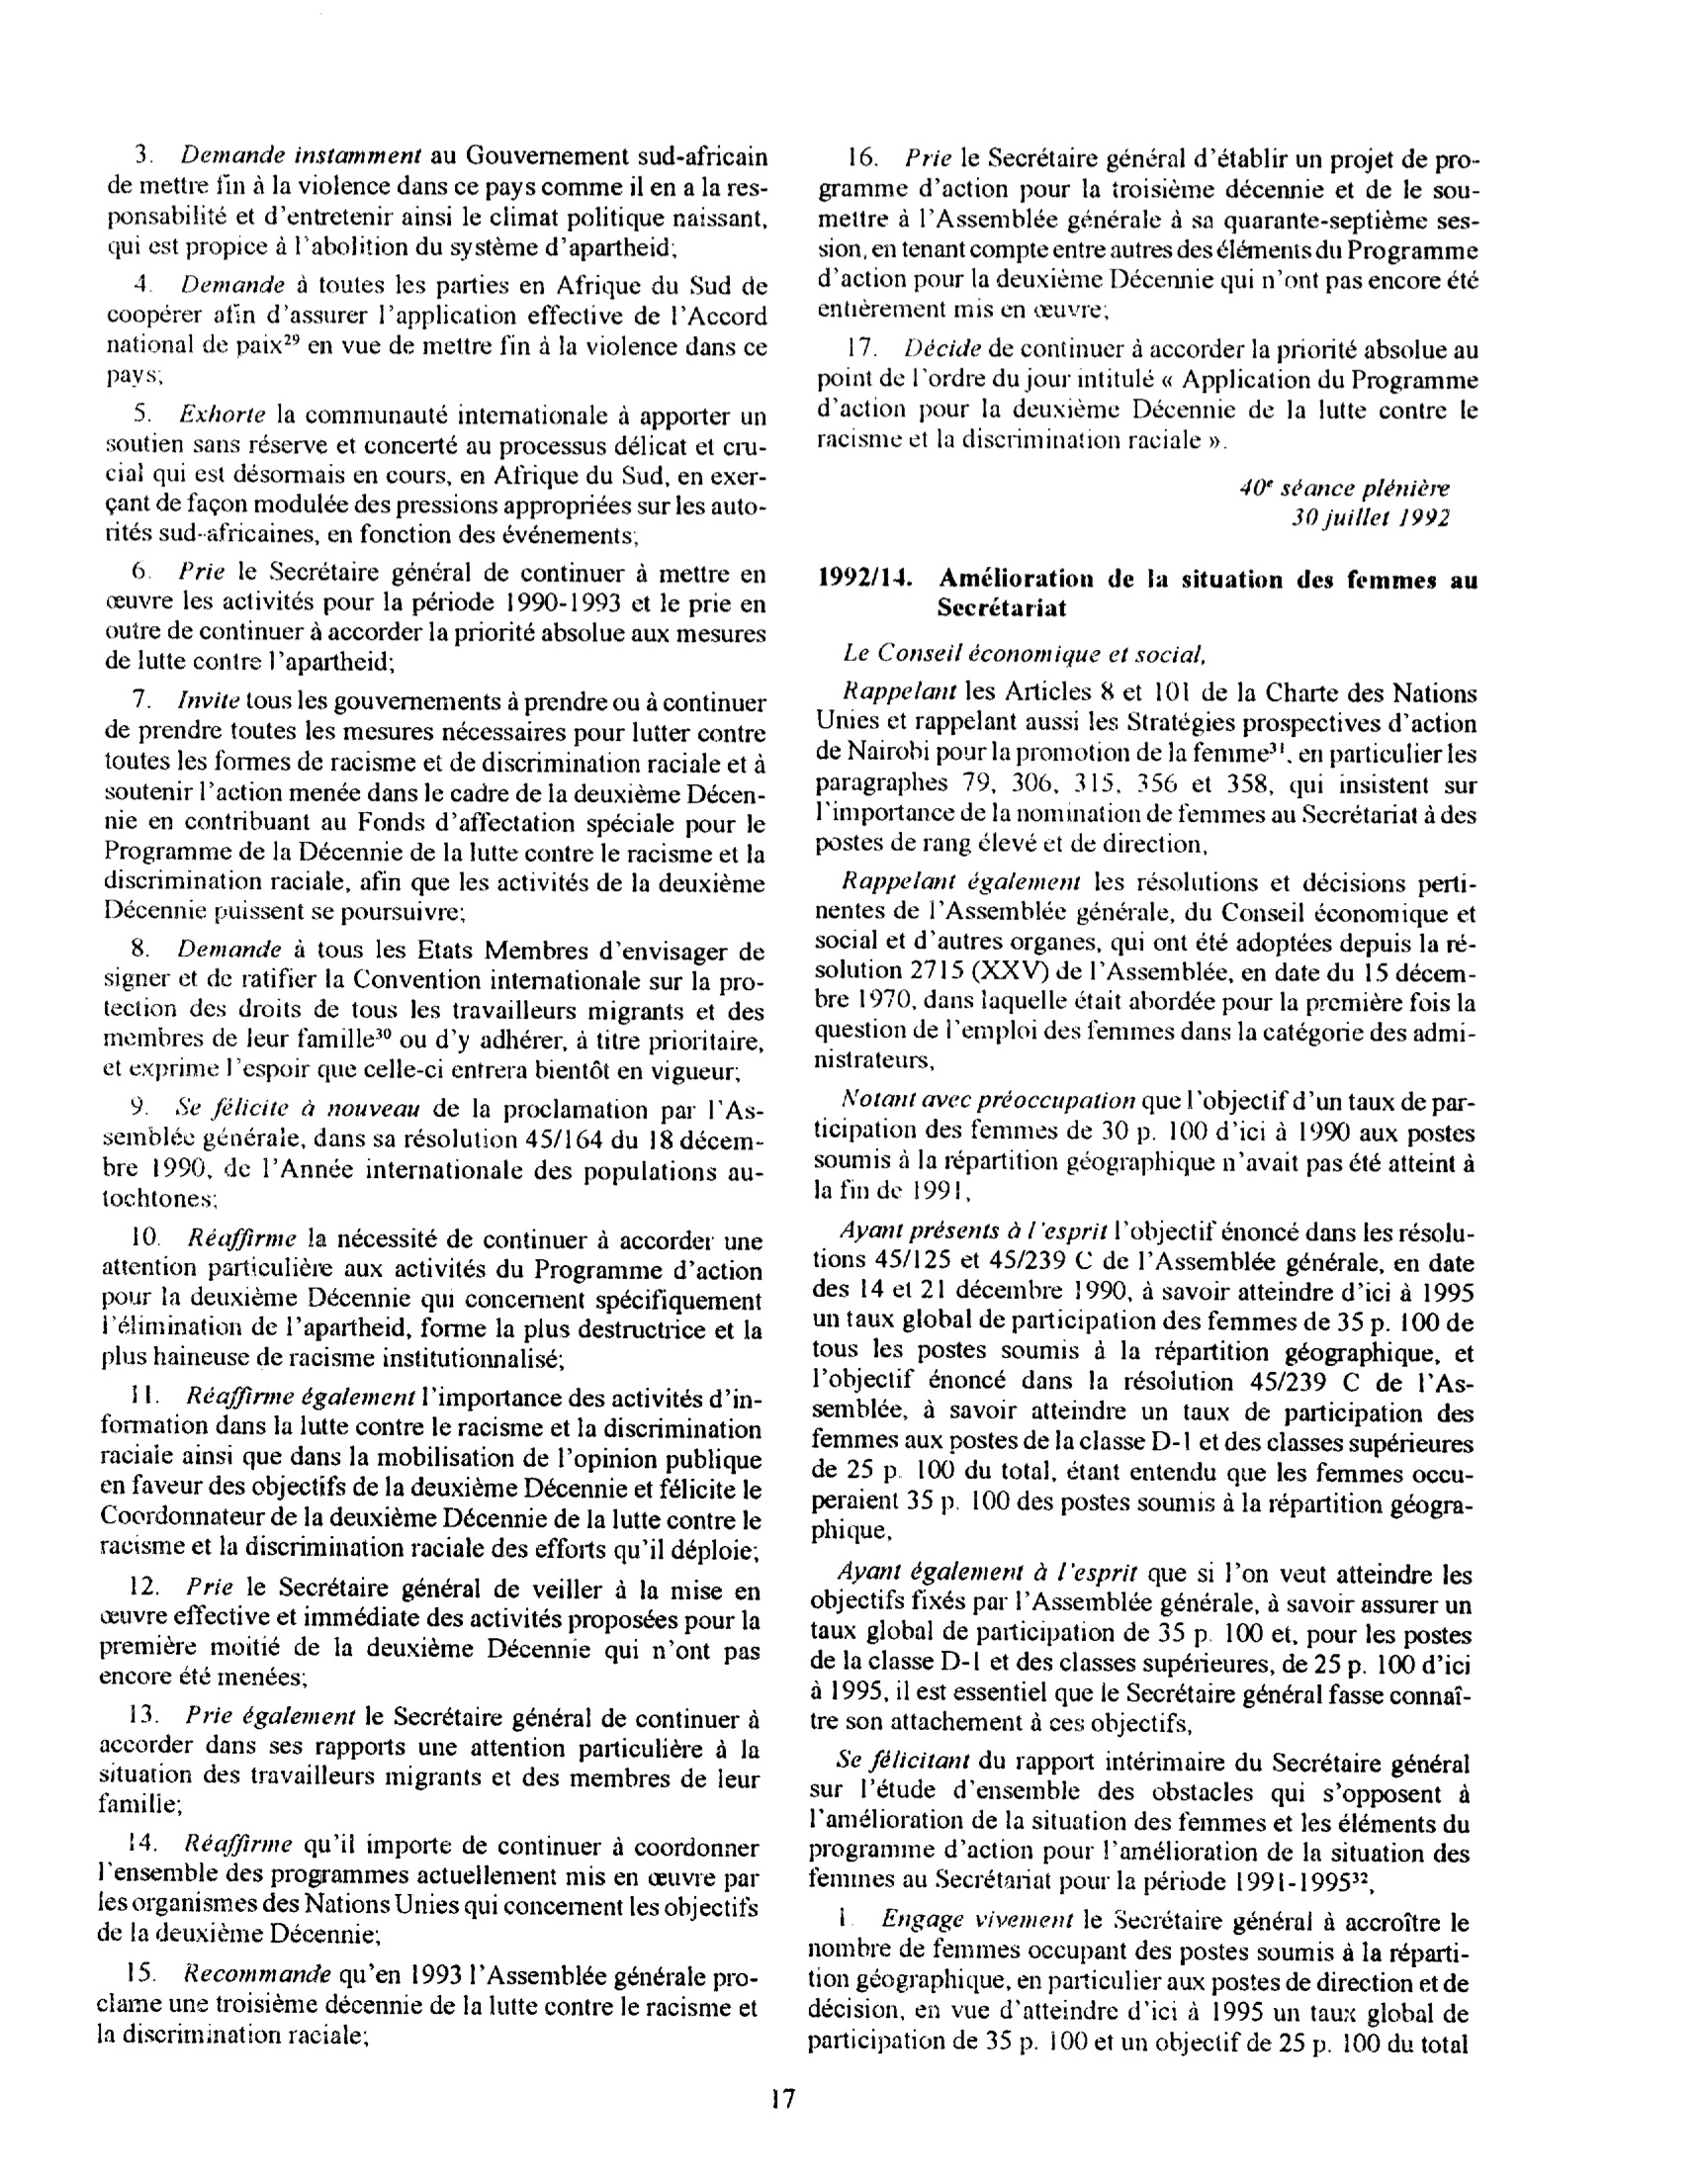MainZone-Date: (1276, 500, 1458, 542)
MainZone-Head: (812, 556, 1484, 624)
MainZone-ListItem: (96, 682, 774, 927), (810, 136, 1488, 325), (92, 1377, 768, 1563), (802, 1901, 1479, 2061), (97, 394, 775, 552), (96, 931, 772, 1086), (93, 1220, 771, 1374), (809, 328, 1487, 459), (99, 135, 777, 262), (88, 1824, 770, 1951), (95, 1088, 773, 1215), (91, 1567, 769, 1692), (89, 1695, 771, 1820), (97, 554, 773, 679), (99, 267, 777, 390), (89, 1954, 768, 2060)
MainZone-P: (804, 1211, 1486, 1549), (809, 864, 1485, 1077), (809, 674, 1483, 860), (804, 1555, 1483, 1739), (804, 1743, 1479, 1896), (808, 1082, 1483, 1208), (821, 634, 1216, 669)
MainZone-Signature: (1231, 469, 1475, 503)
TitlePageZone: (765, 2079, 802, 2122)
